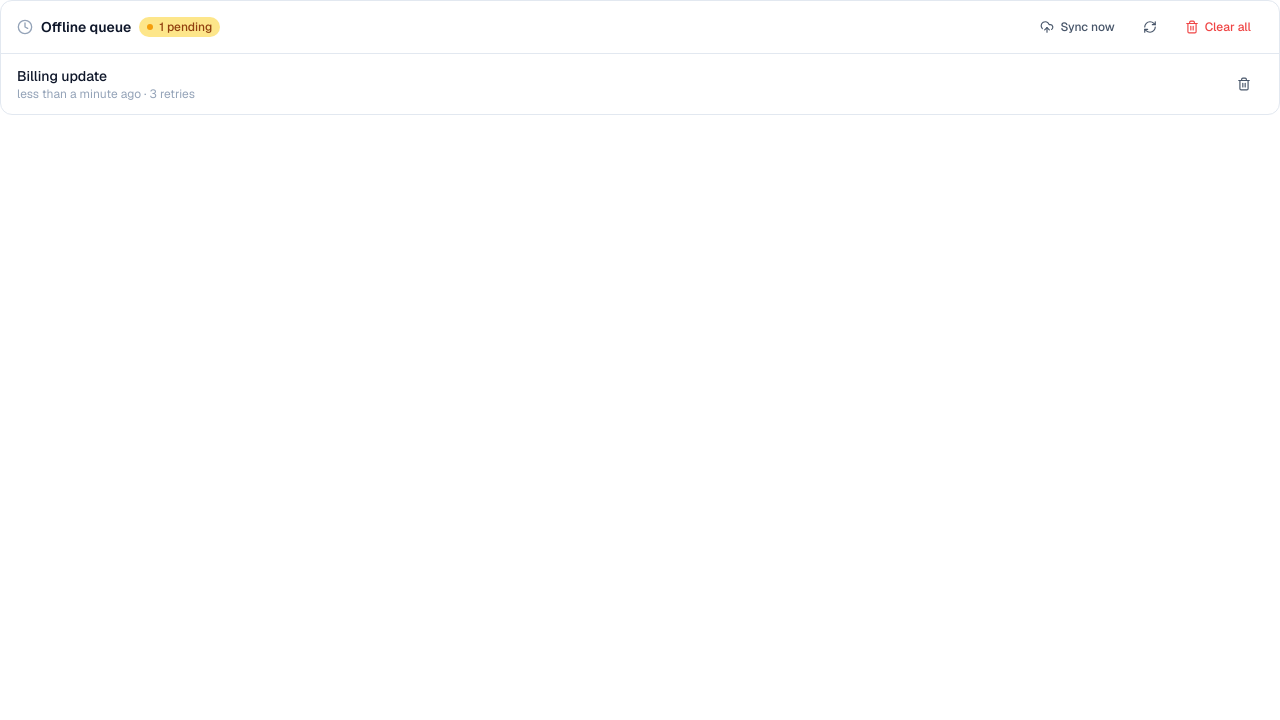
Test: SyncQueuePanel › reports when a sync attempt syncs nothing
Expected: the text "Billing update" is shown, [17, 67, 107, 85]
Click the button with aria-label "Sync queued operations now".
click(1078, 27)  # box [1028, 13, 1127, 41]
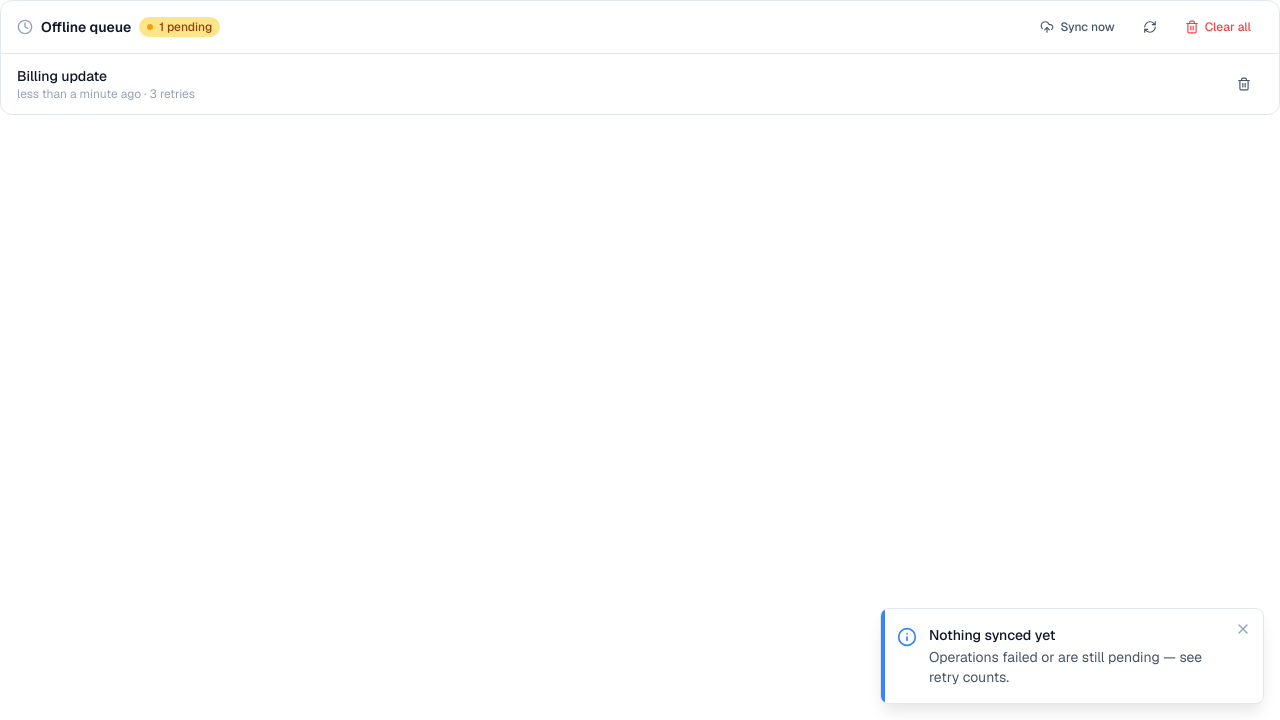
Expected: the text "Nothing synced yet" is shown, [929, 626, 1056, 644]
